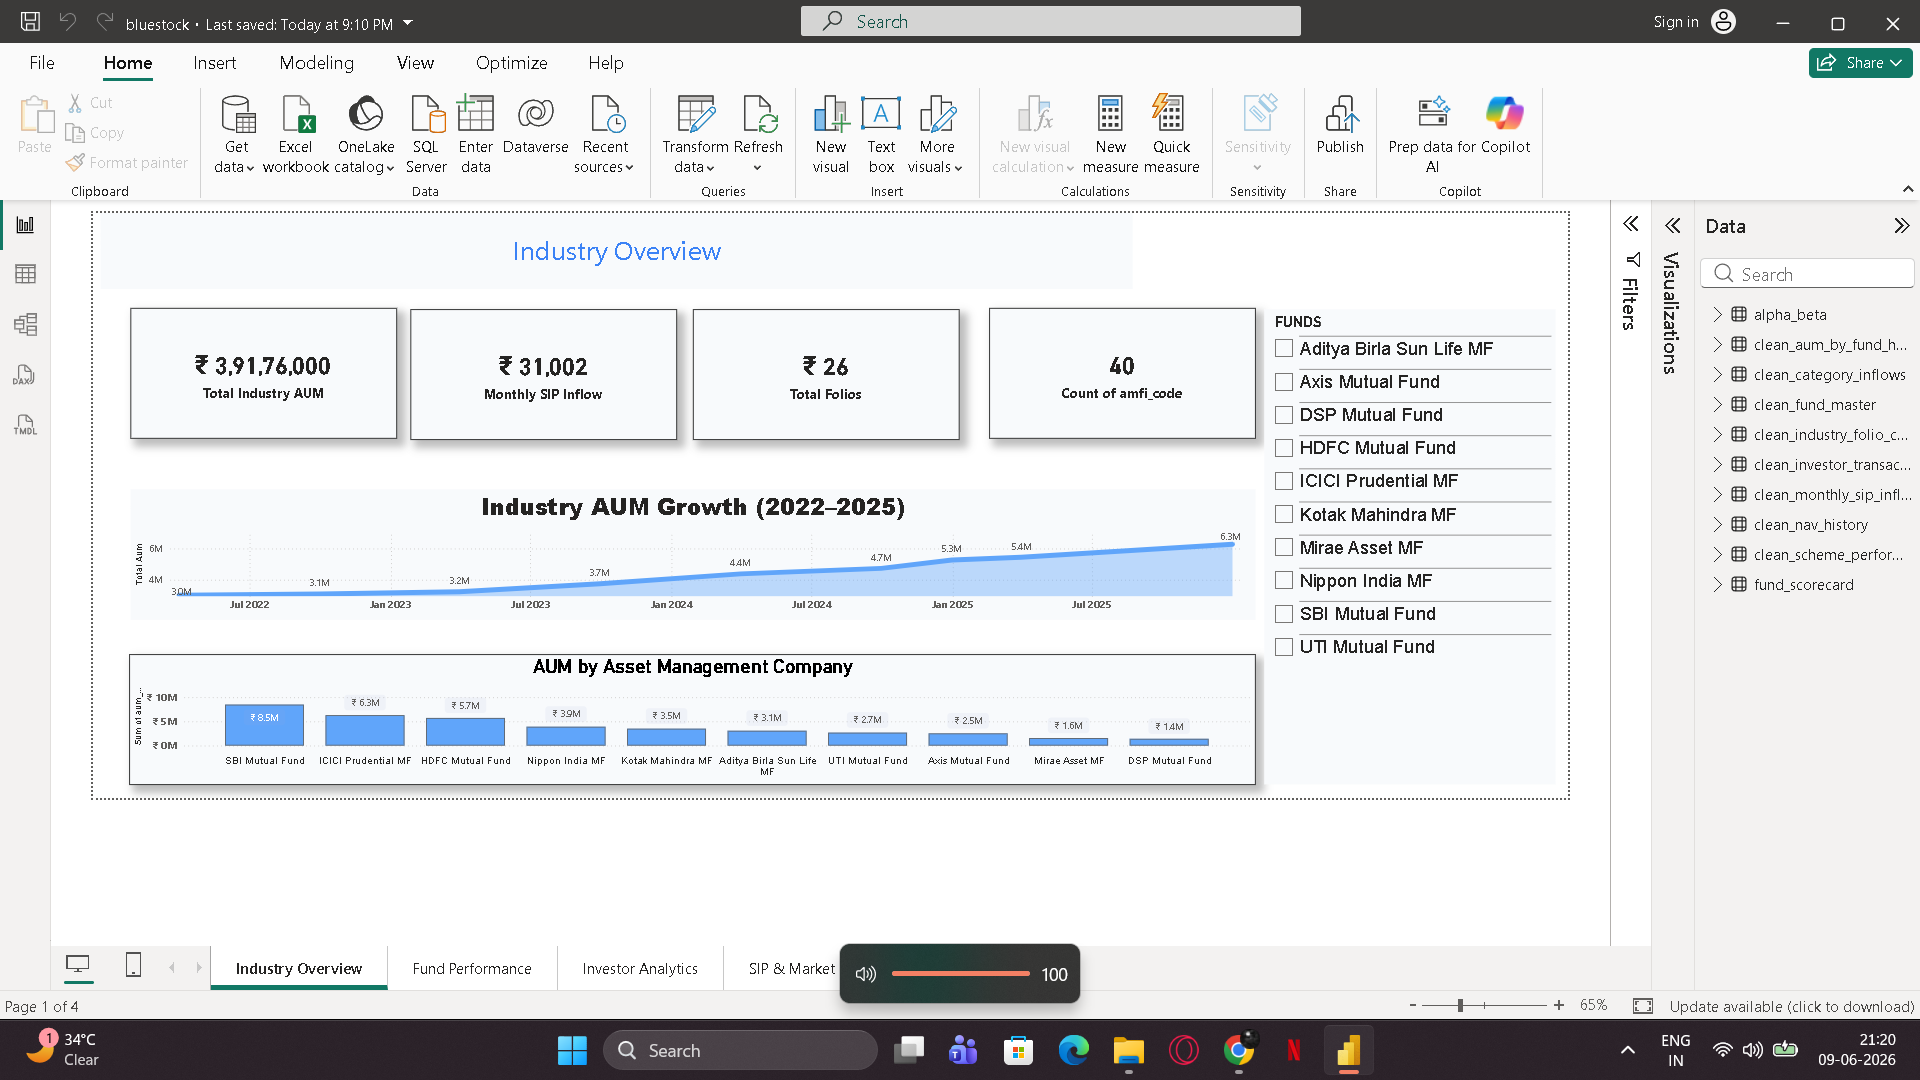

The dashboard page shown, as its layout file describes it:
{"tool":"powerbi","page":{"name":"Industry Overview","canvas":[1815,720],"ordinal":0},"visuals":[{"type":"textbox","box":[9.6,0,1270.7,93.3],"z":0},{"type":"card","fields":{"Values":["Sum(clean_aum_by_fund_house.aum_crore)"]},"box":[46.7,116.6,328,160.5],"z":1000},{"type":"card","fields":{"Values":["Max(clean_monthly_sip_inflows.sip_inflow_crore)"]},"box":[391.1,118,328,160.5],"z":2000},{"type":"card","fields":{"Values":["Max(clean_industry_folio_count.total_folios_crore)"]},"box":[738.3,118,328,160.5],"z":3000},{"type":"card","fields":{"Values":["Count(clean_fund_master.amfi_code)"]},"box":[1103.1,117.4,328,160.8],"z":4000},{"type":"lineChart","title":"Industry AUM Growth (2022–2025)","fields":{"Category":["clean_aum_by_fund_house.date"],"Y":["Sum(clean_aum_by_fund_house.aum_crore)"]},"box":[46.6,339.3,1384.5,160.8],"z":5000},{"type":"clusteredColumnChart","title":"AUM by Asset Management Company","fields":{"Category":["clean_aum_by_fund_house.fund_house"],"Y":["Sum(clean_aum_by_fund_house.aum_crore)"]},"box":[45,543.5,1386.2,160.8],"z":6000},{"type":"slicer","fields":{"Values":["clean_aum_by_fund_house.fund_house"]},"box":[1441.7,118.3,358.3,585],"z":7000}]}

Visuals, with their boxes on the page's 1815x720 design canvas (x1, y1, x2, y2). These are canvas units, not pixel positions in the 1920x1080 screenshot, which may show the page scaled, cropped or inside an application window:
textbox: (10,0,1280,93)
card - Sum(clean_aum_by_fund_house.aum_crore): (47,117,375,277)
card - Max(clean_monthly_sip_inflows.sip_inflow_crore): (391,118,719,278)
card - Max(clean_industry_folio_count.total_folios_crore): (738,118,1066,278)
card - Count(clean_fund_master.amfi_code): (1103,117,1431,278)
"Industry AUM Growth (2022–2025)" lineChart: (47,339,1431,500)
"AUM by Asset Management Company" clusteredColumnChart: (45,544,1431,704)
slicer - clean_aum_by_fund_house.fund_house: (1442,118,1800,703)
